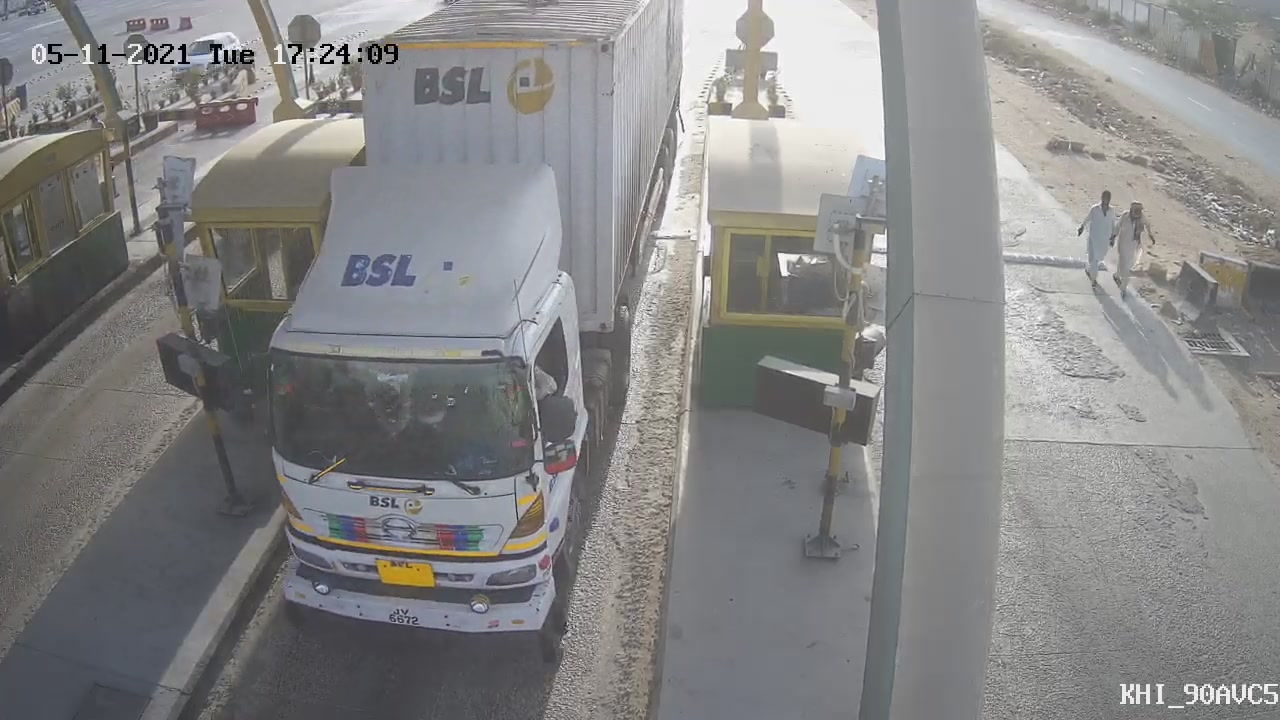F6: (199, 1, 712, 662)
